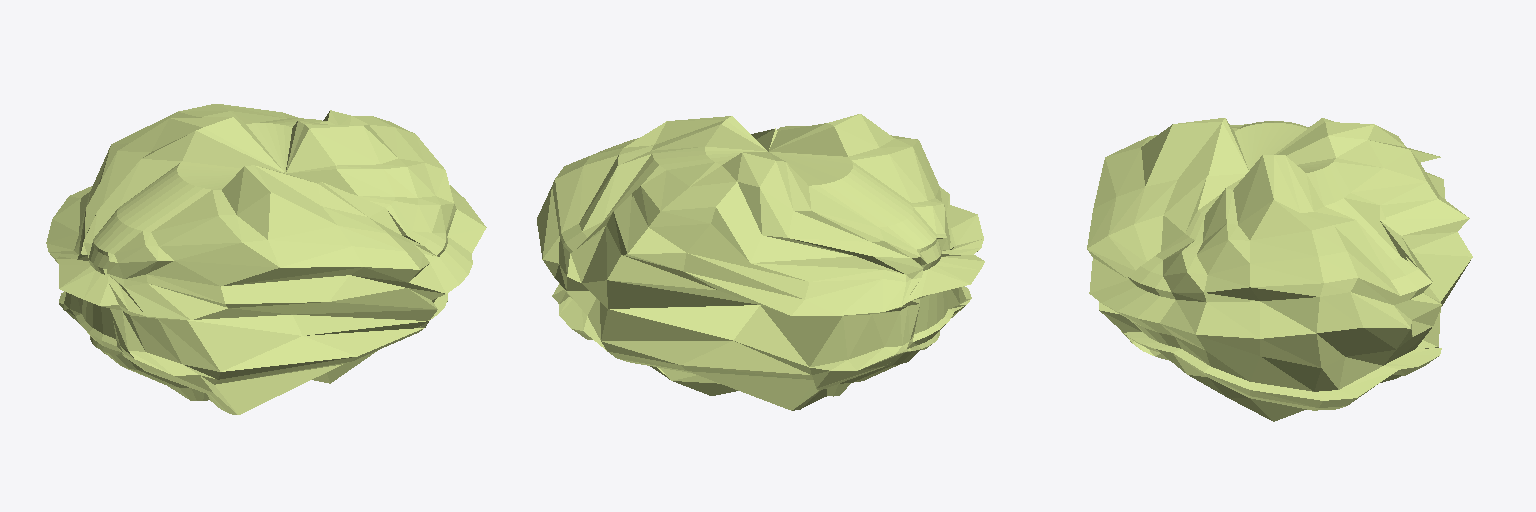
Rendered from asteroid.obj.
The picture shows the model from 3 angles: view 1: azimuth 30°, elevation 25°; view 2: azimuth 150°, elevation 25°; view 3: azimuth 270°, elevation 25°; orthographic projection.
Parts seen in each view (by area): view 1: Asteroid; view 2: Asteroid; view 3: Asteroid.
Boxes of the visible parts, <box> form: Asteroid: <box>46,104,486,414</box>; Asteroid: <box>537,114,984,410</box>; Asteroid: <box>1087,118,1472,421</box>.
Bounding box in the file's own units: 2.78 × 1.63 × 2.33.